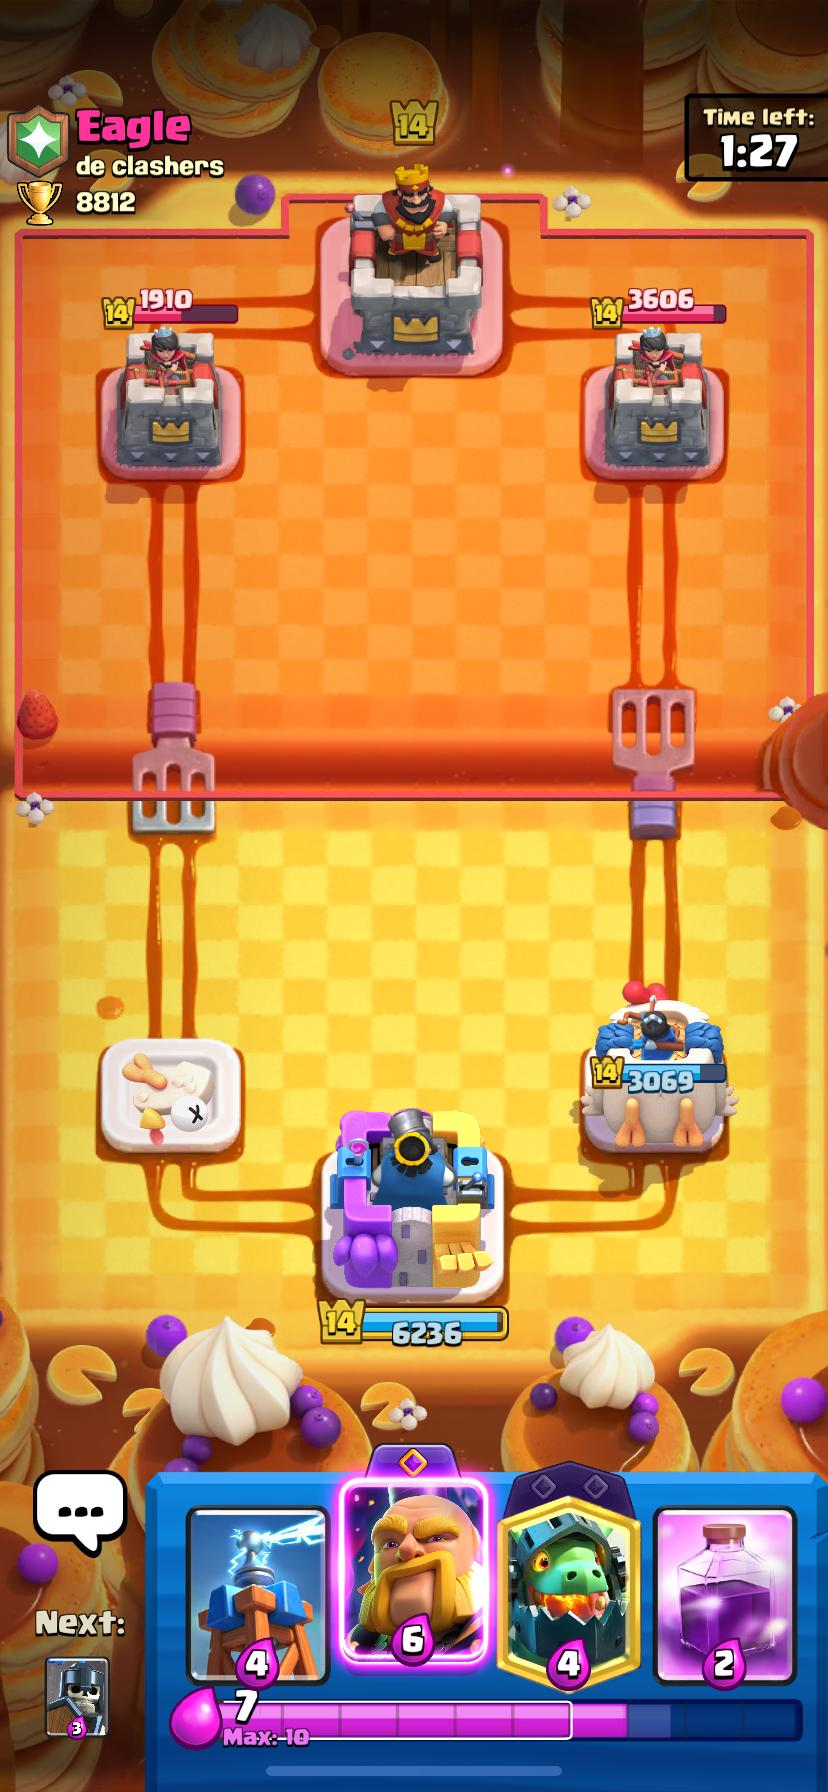EKingTower: (350, 165, 483, 359)
EnemyPrincessTower: (101, 326, 240, 480), (586, 327, 723, 480)
OwnKingTower: (331, 1109, 494, 1299)
OwnPrincessTower: (580, 983, 735, 1151)
TowerDown: (99, 1037, 241, 1155)
